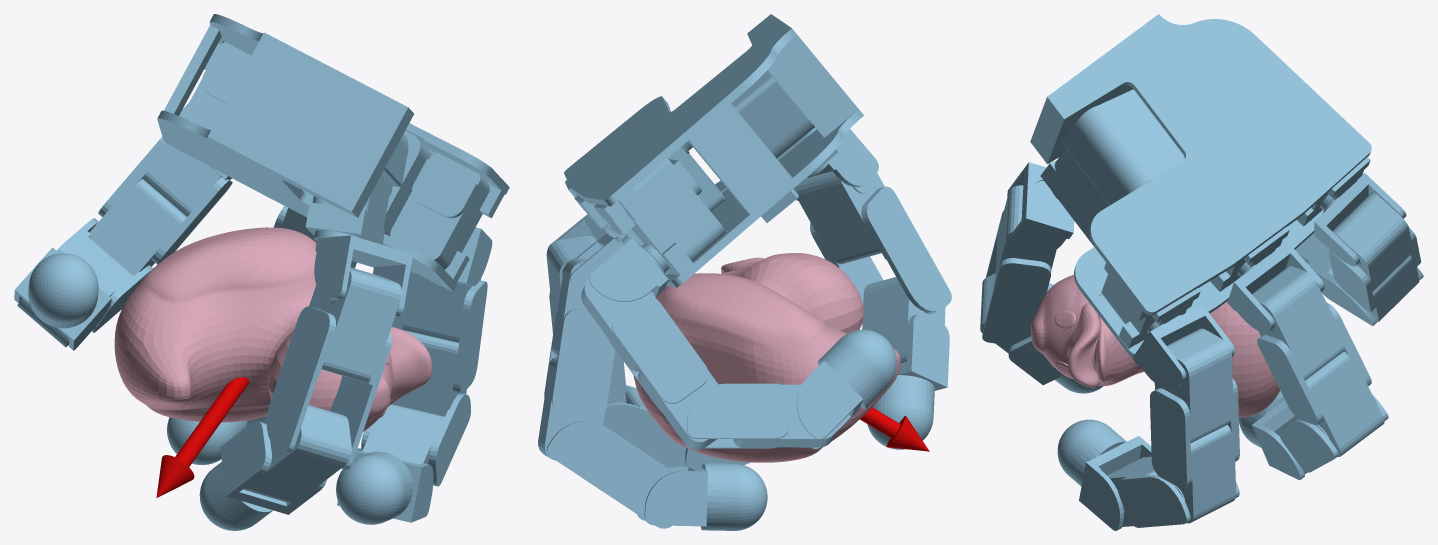
3 views of the same model, side by side, from view 1: azimuth 30°, elevation 25°; view 2: azimuth 150°, elevation 25°; view 3: azimuth 270°, elevation 25° (orthographic). The views are drawn at different scales.
Visible parts, largest first — view 1: world, rubber_duck.stl; view 2: world, rubber_duck.stl; view 3: world, rubber_duck.stl.
Part boxes in pixels (left/top/right/bottom): world: left=14, top=14, right=509, bottom=530; rubber_duck.stl: left=114, top=227, right=431, bottom=431; world: left=538, top=14, right=951, bottom=530; rubber_duck.stl: left=633, top=253, right=900, bottom=462; world: left=980, top=14, right=1423, bottom=530; rubber_duck.stl: left=1031, top=274, right=1280, bottom=418.
Size of the model in its own units: 0.1616 by 0.1888 by 0.1667.
